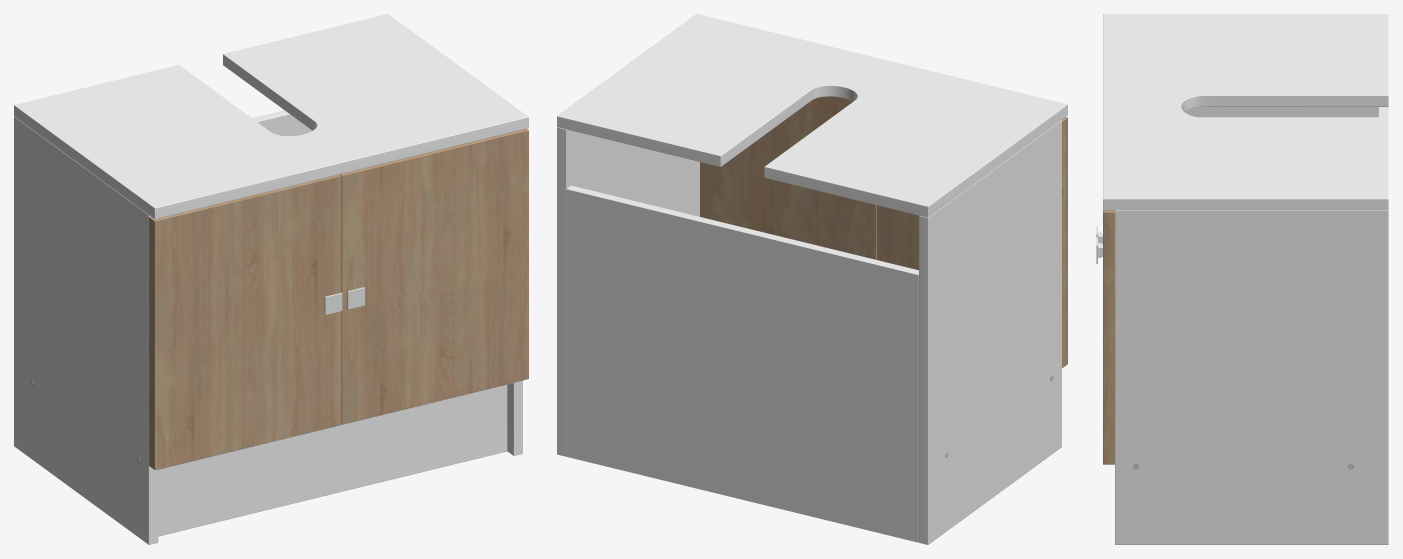
The model's file is B07S6XKT5X.glb.
The picture shows the model from 3 angles, left to right: view 1: azimuth 30°, elevation 25°; view 2: azimuth 150°, elevation 25°; view 3: azimuth 270°, elevation 25°; orthographic projection. The views are drawn at different scales.
Visible parts, largest first — view 1: RootNode; view 2: RootNode; view 3: RootNode.
Boxes of the visible parts, left/top/right/bottom form: RootNode: left=14, top=14, right=528, bottom=544; RootNode: left=557, top=14, right=1067, bottom=544; RootNode: left=1096, top=14, right=1388, bottom=544.
Size of the model in its own units: 0.5999 by 0.522 by 0.3998.
Materials: 1 (1 with a texture image).
